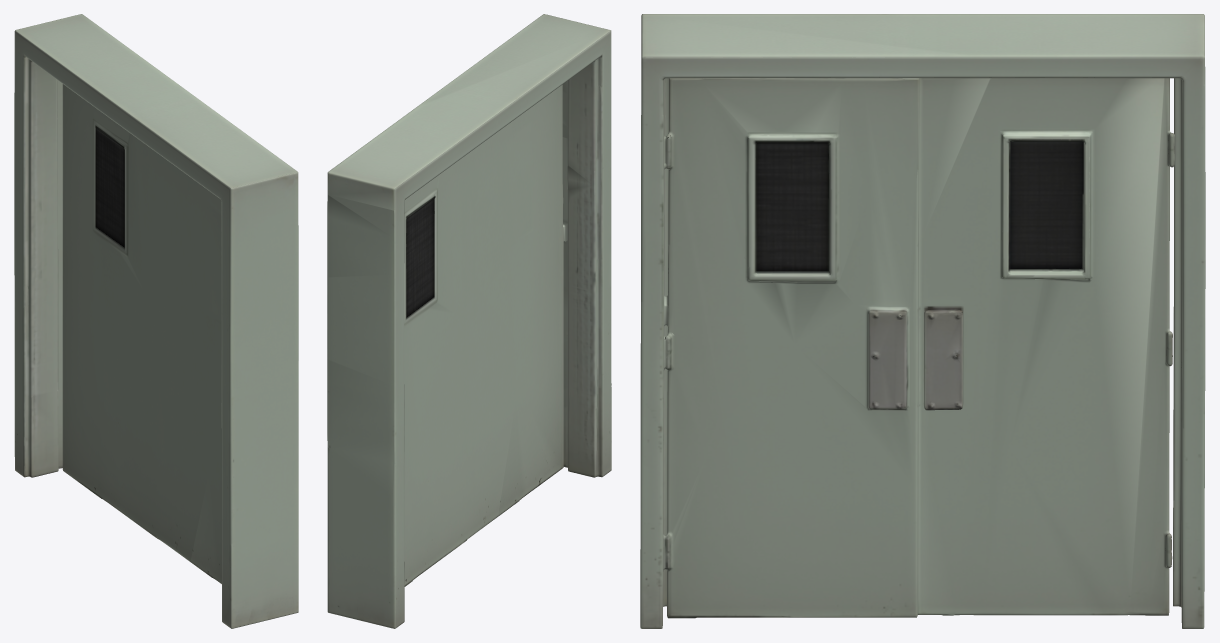
The model's file is repaired.glb.
The picture shows the model from 3 angles, left to right: view 1: azimuth 30°, elevation 25°; view 2: azimuth 150°, elevation 25°; view 3: azimuth 270°, elevation 25°; orthographic projection. The views are drawn at different scales.
Visible parts, largest first — view 1: repaired; view 2: repaired; view 3: repaired.
Boxes of the visible parts, x1,y1,x2,y2 form: repaired: (14,14,298,628); repaired: (327,14,611,628); repaired: (640,14,1205,628).
Bounding box in the file's own units: 0.1625 × 1 × 0.894.
Materials: 1 (1 with a texture image).
